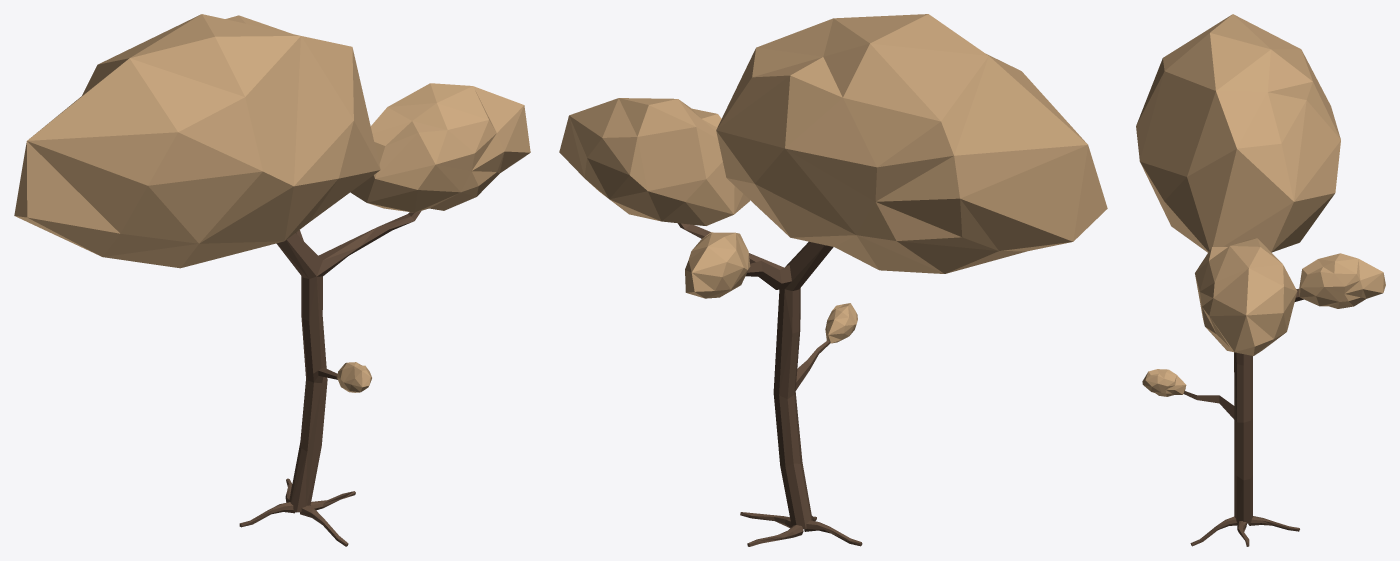
File: Environment_Tree_Dead.fbx
3 views of the same model, side by side, from view 1: azimuth 30°, elevation 25°; view 2: azimuth 150°, elevation 25°; view 3: azimuth 270°, elevation 25° (orthographic). The views are drawn at different scales.
Parts seen in each view (by area): view 1: BezierCurve.003; view 2: BezierCurve.003; view 3: BezierCurve.003.
Boxes of the visible parts, x1,y1,x2,y2 form: BezierCurve.003: (14,14,530,546); BezierCurve.003: (559,14,1107,546); BezierCurve.003: (1136,14,1385,546).
Size of the model in its own units: 1262 by 1242 by 609.
